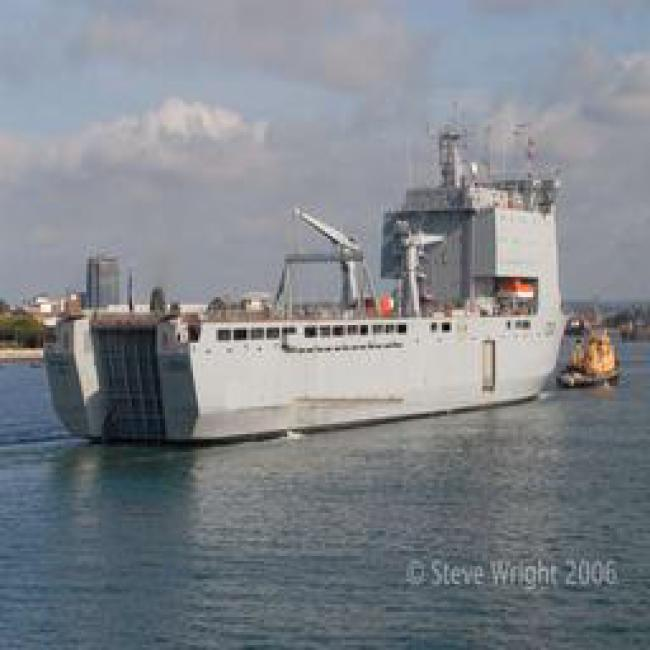Ship: (29, 287, 599, 428)
